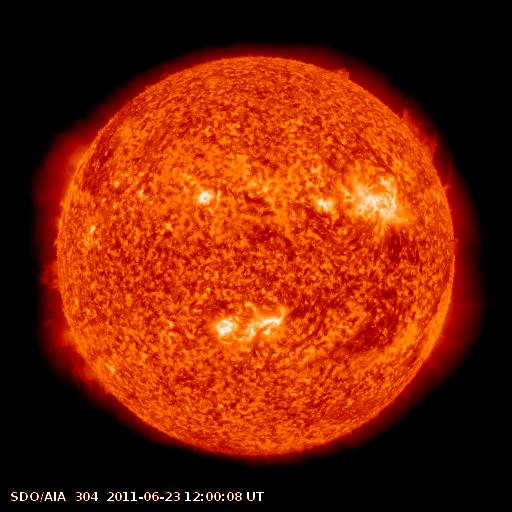prominence: (393, 94, 456, 194), (59, 348, 118, 402), (31, 255, 72, 295), (319, 55, 364, 86)
